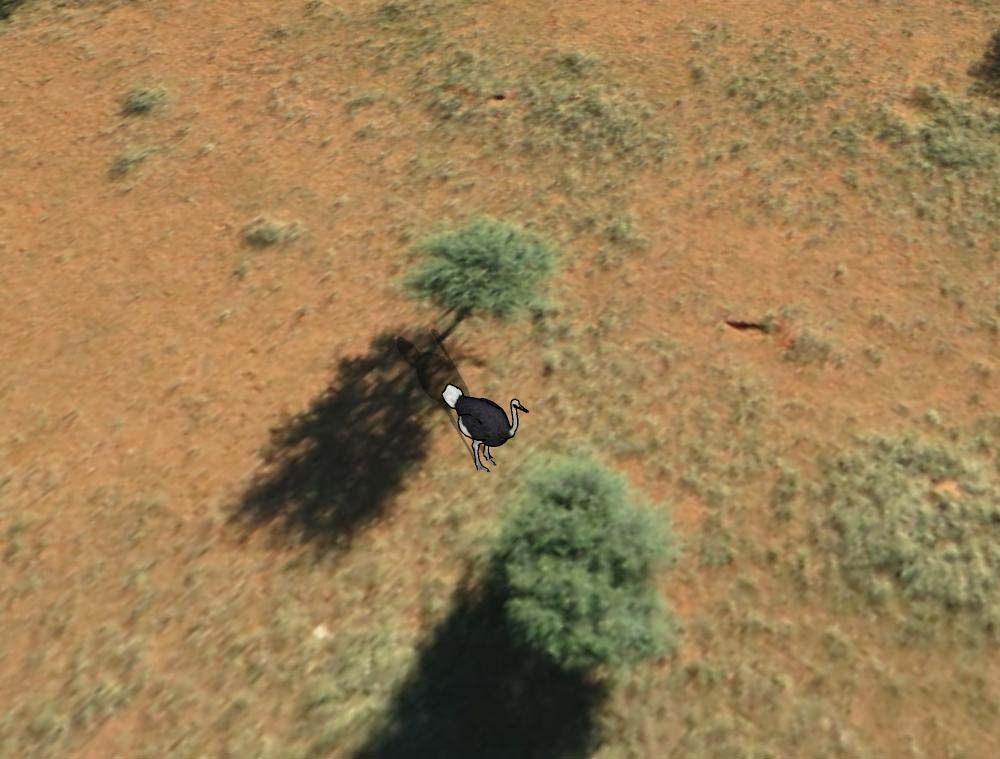ostrich: (440, 381, 529, 476)
